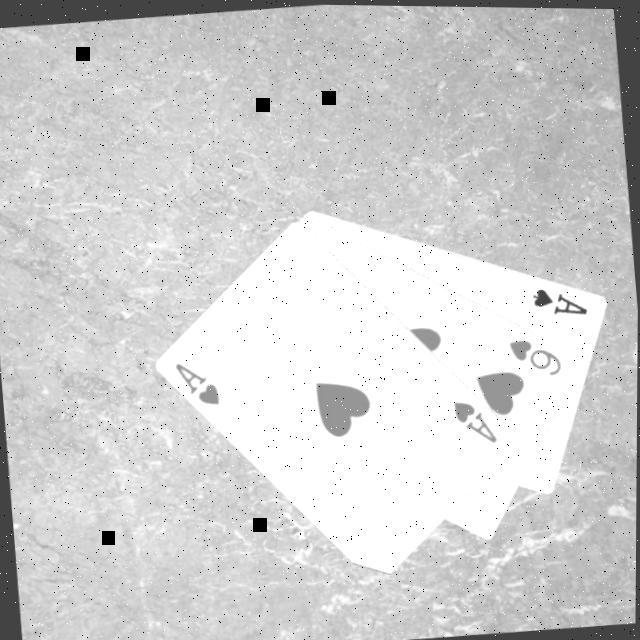6H: (504, 331, 566, 381)
AH: (171, 355, 224, 412), (449, 392, 501, 449)
AS: (528, 279, 591, 321)
